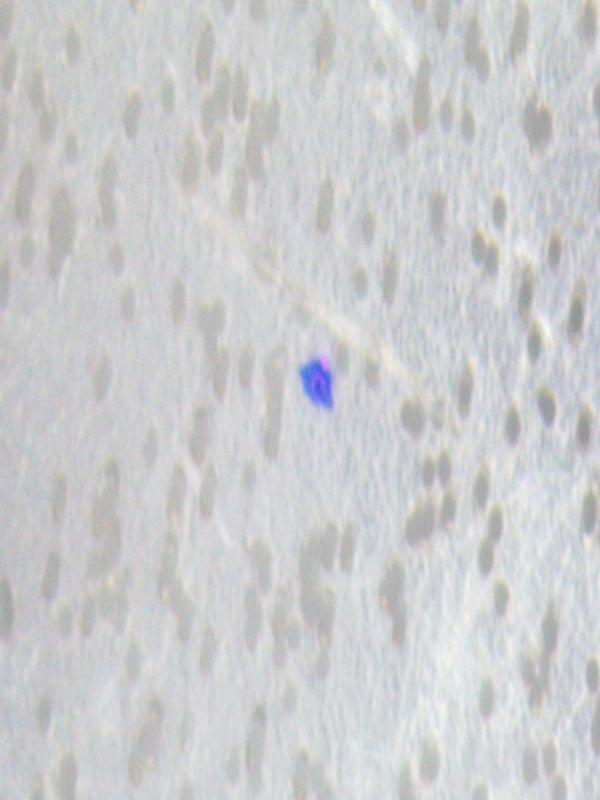microplastic: (1, 1, 598, 796), (298, 353, 334, 411)
